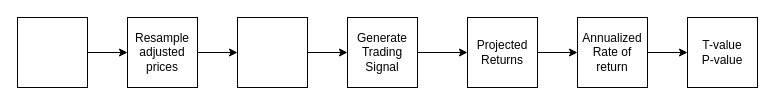
Image size: 775x105. Some labels were removed from this diagram. Here are the shapes that lost their labels. From the top down, the centre of each, then its label:
At [52,52]: "Load data".
At [272,52]: "Compute Log Returns".
